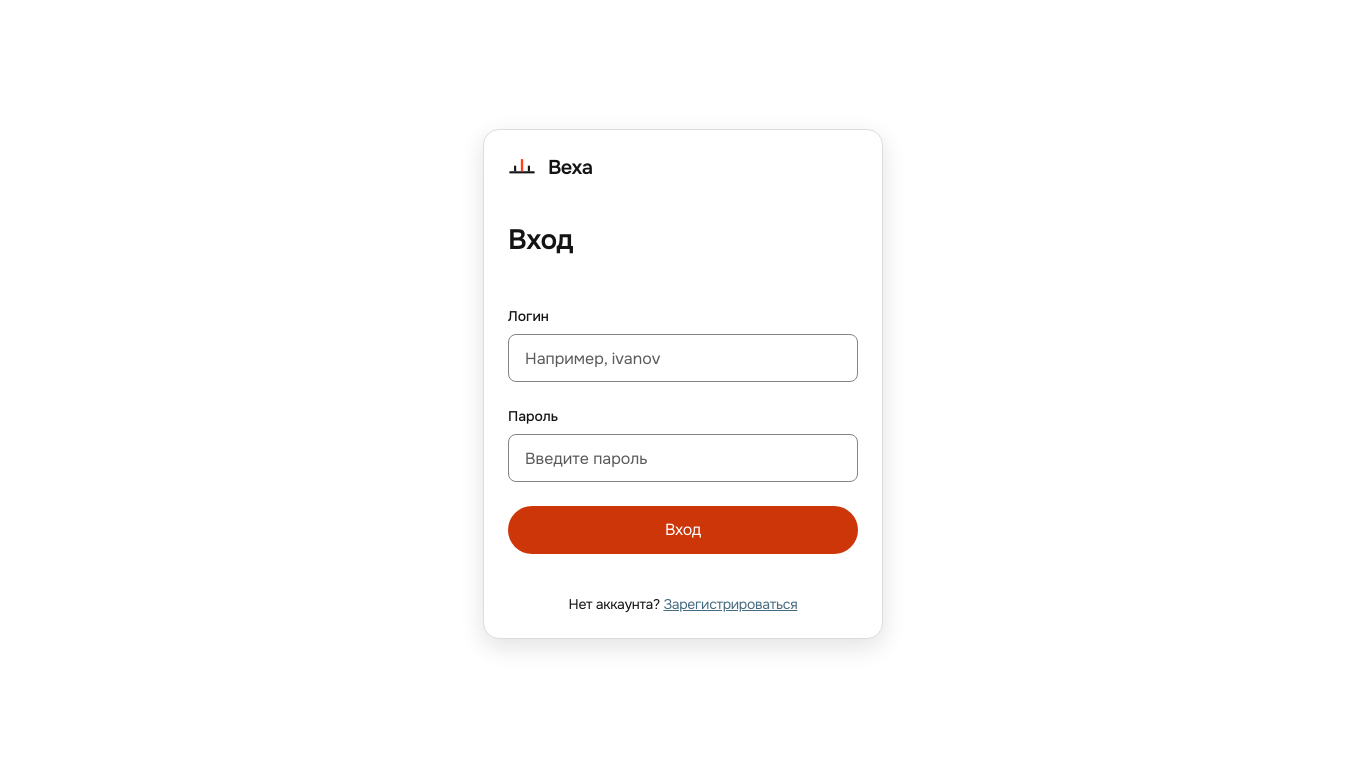
Test case: LoginPage › successful login navigates to sites page
Type "demo" into the field labelled "Логин" at (683, 358), box [508,334,858,382]
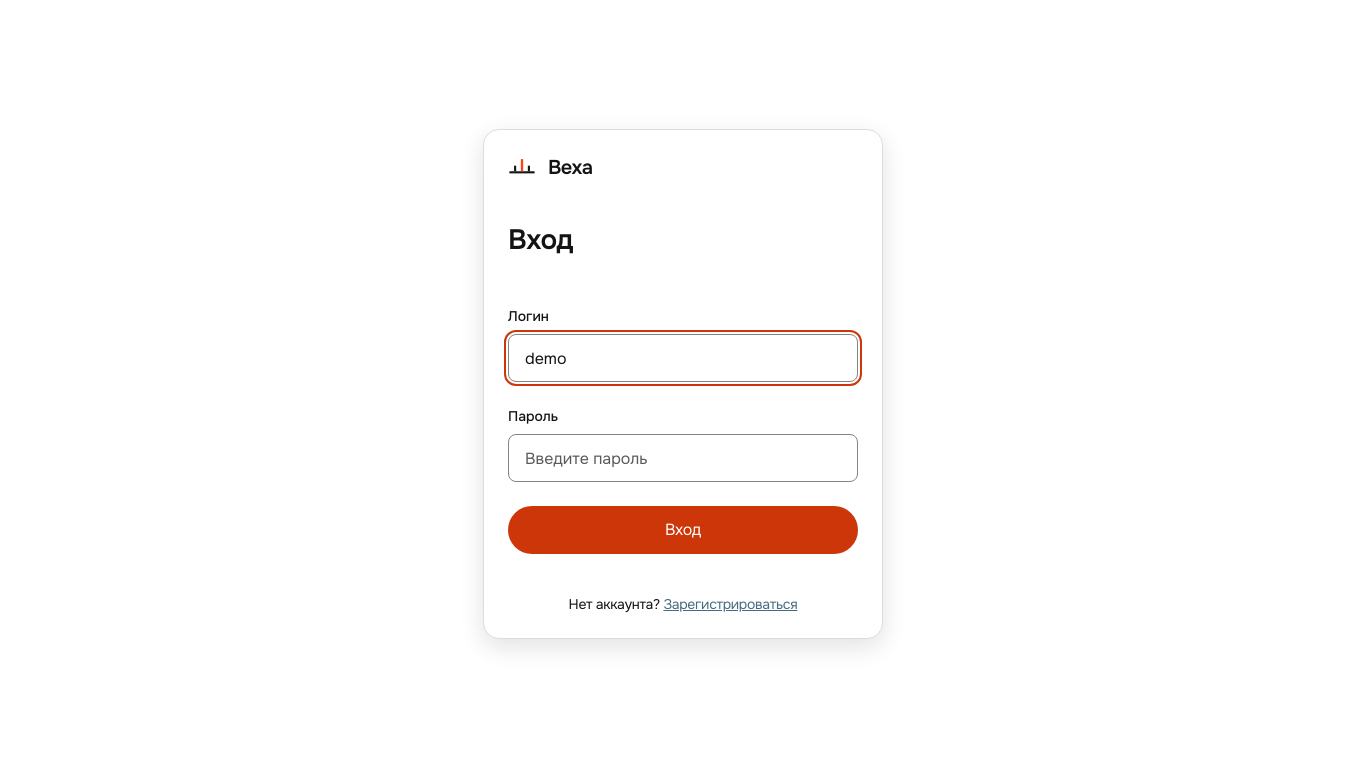
Type "demo" into the password field labelled "Пароль" at (683, 458), box [508,434,858,482]
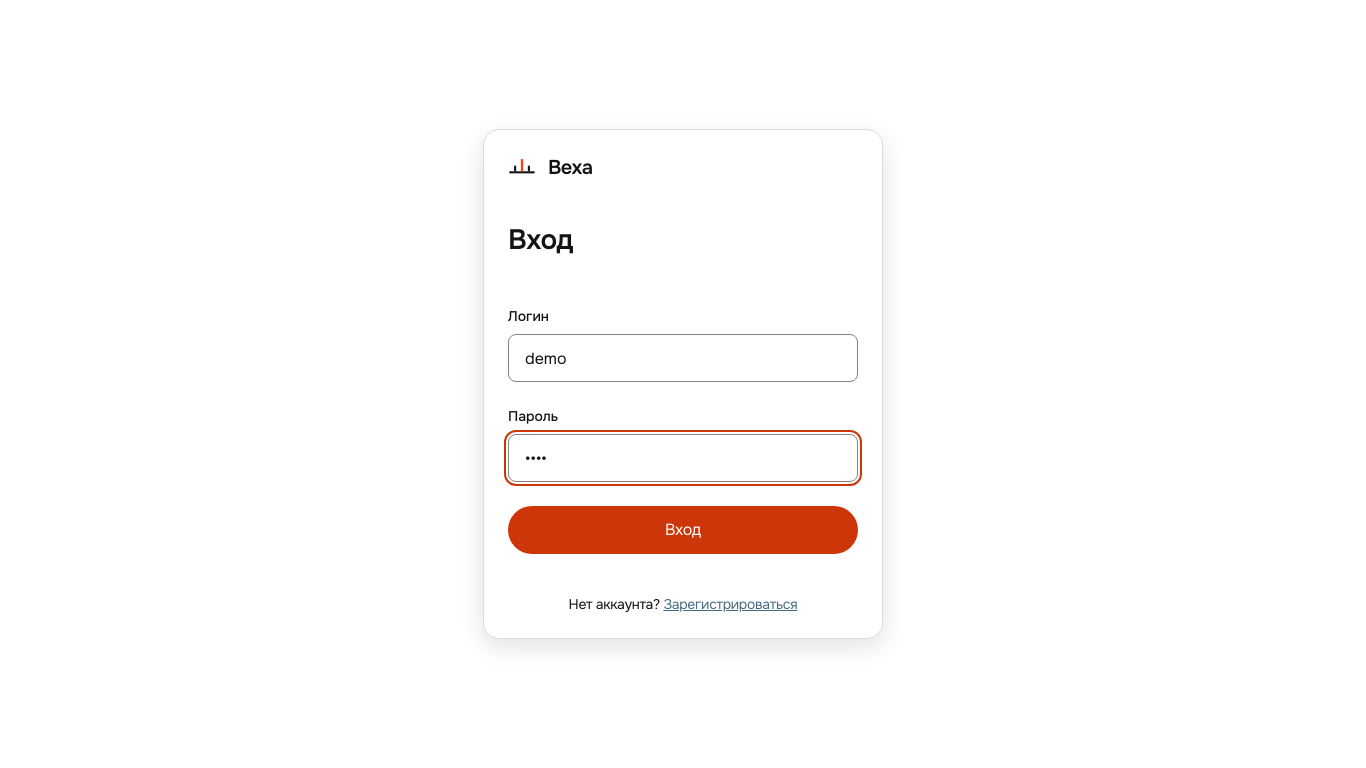
Click the button "Вход" at (683, 530), box [508,506,858,554]
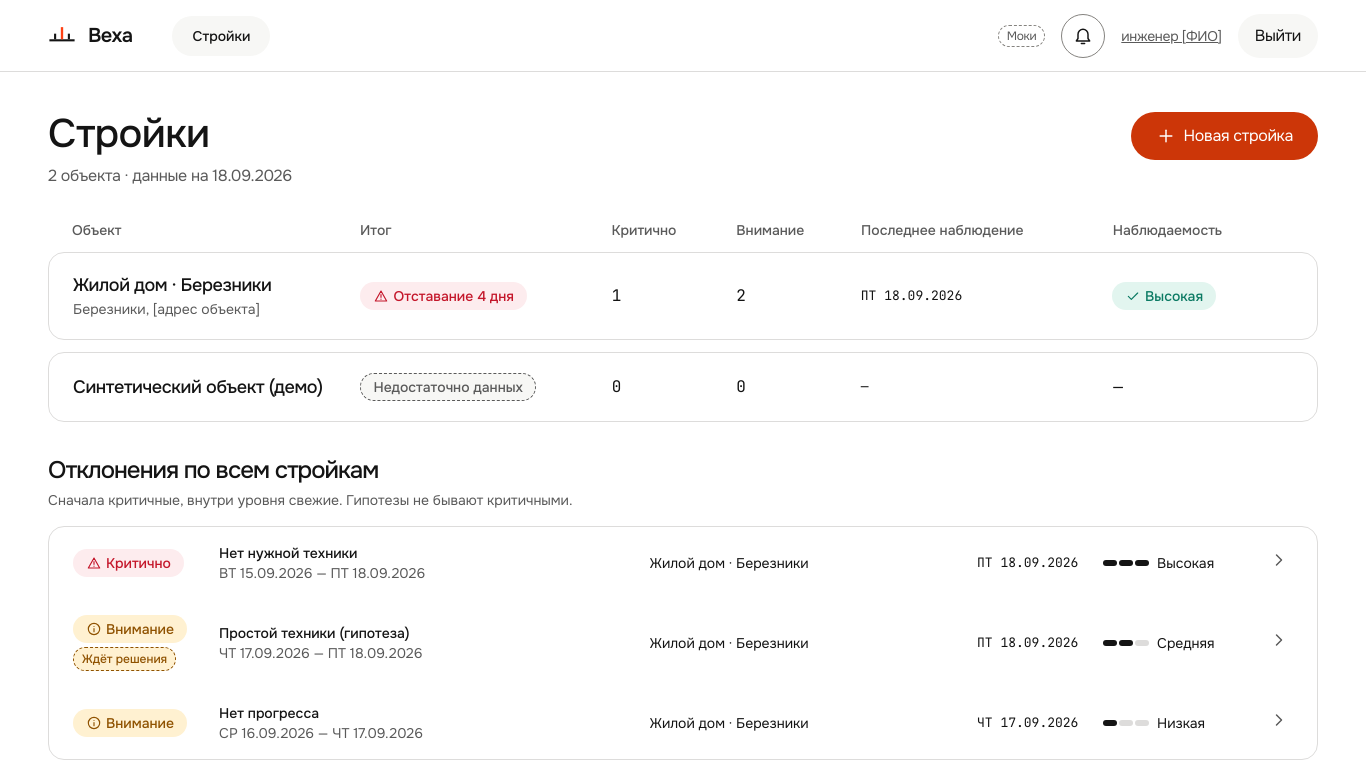
Result: the heading "Стройки" is shown at [48,108,210,159]
